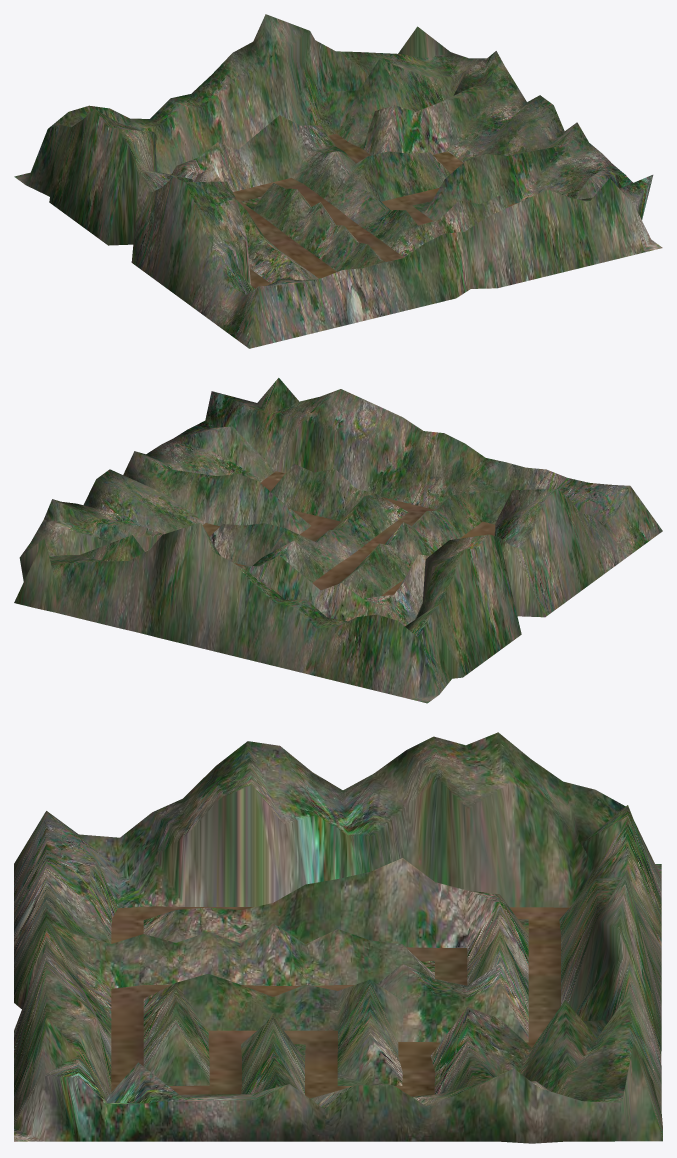
File: TerrainAza (2).DAE
The picture shows the model from 3 angles, top to bottom: view 1: azimuth 30°, elevation 25°; view 2: azimuth 150°, elevation 25°; view 3: azimuth 270°, elevation 25°; orthographic projection. The views are drawn at different scales.
Parts seen in each view (by area): view 1: Plane001; view 2: Plane001; view 3: Plane001.
Boxes of the visible parts, bbox=[...] form: Plane001: bbox=[14, 14, 662, 348]; Plane001: bbox=[14, 378, 662, 703]; Plane001: bbox=[14, 732, 662, 1143].
Size of the model in its own units: 146 by 139 by 37.96.
3 materials, 3 textured.
